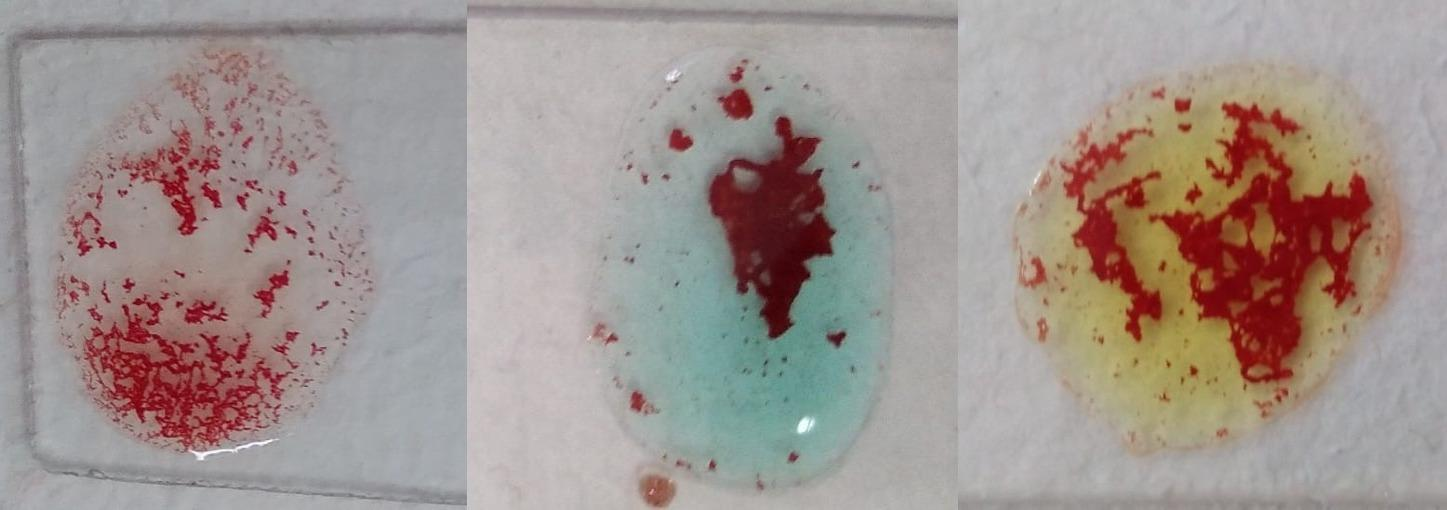A: (593, 55, 909, 498)
B: (1015, 70, 1412, 453)
D: (65, 56, 364, 466)
